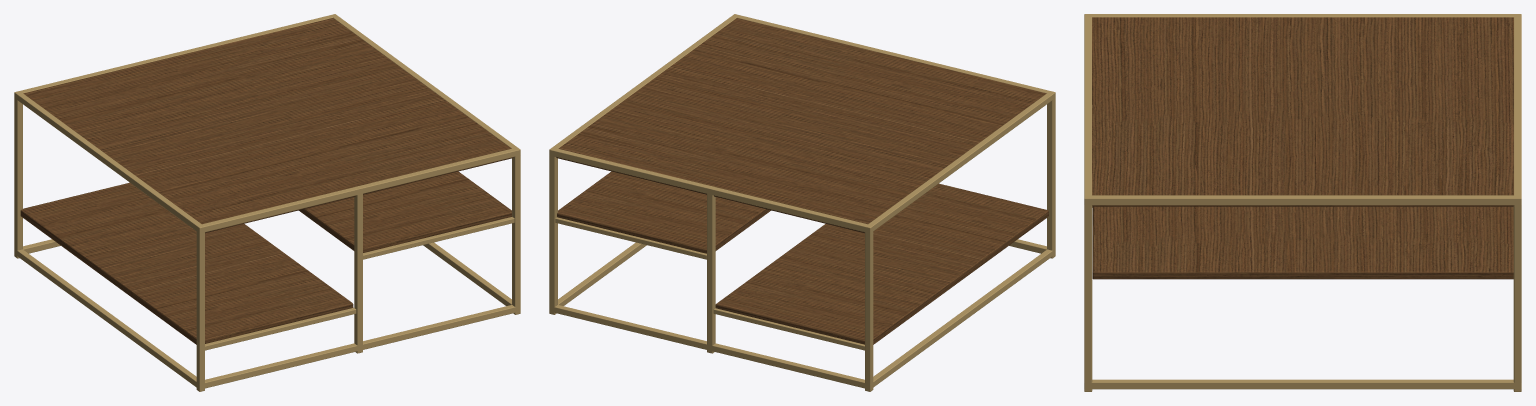
The picture shows the model from 3 angles, left to right: view 1: azimuth 30°, elevation 25°; view 2: azimuth 150°, elevation 25°; view 3: azimuth 270°, elevation 25°; orthographic projection. The views are drawn at different scales.
Visible parts, largest first — view 1: SIENNA LV446-L02 | LV446-L02-01 optimized; view 2: SIENNA LV446-L02 | LV446-L02-01 optimized; view 3: SIENNA LV446-L02 | LV446-L02-01 optimized.
Part boxes in pixels (x1,y1,x2,y2): SIENNA LV446-L02 | LV446-L02-01 optimized: [14, 14, 520, 391]; SIENNA LV446-L02 | LV446-L02-01 optimized: [549, 14, 1055, 391]; SIENNA LV446-L02 | LV446-L02-01 optimized: [1084, 14, 1521, 391].
Size of the model in its own units: 0.9 by 0.44 by 0.9.
2 materials, 1 textured.
